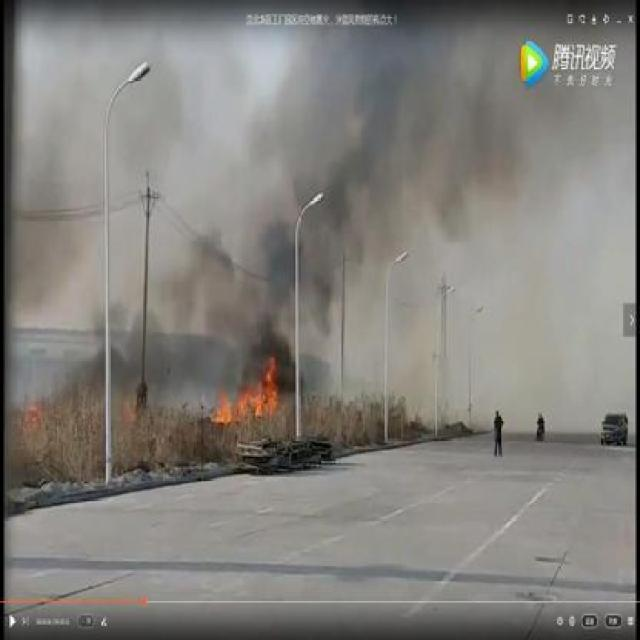Fire: (206, 343, 287, 423)
Smoke: (230, 18, 526, 333)
